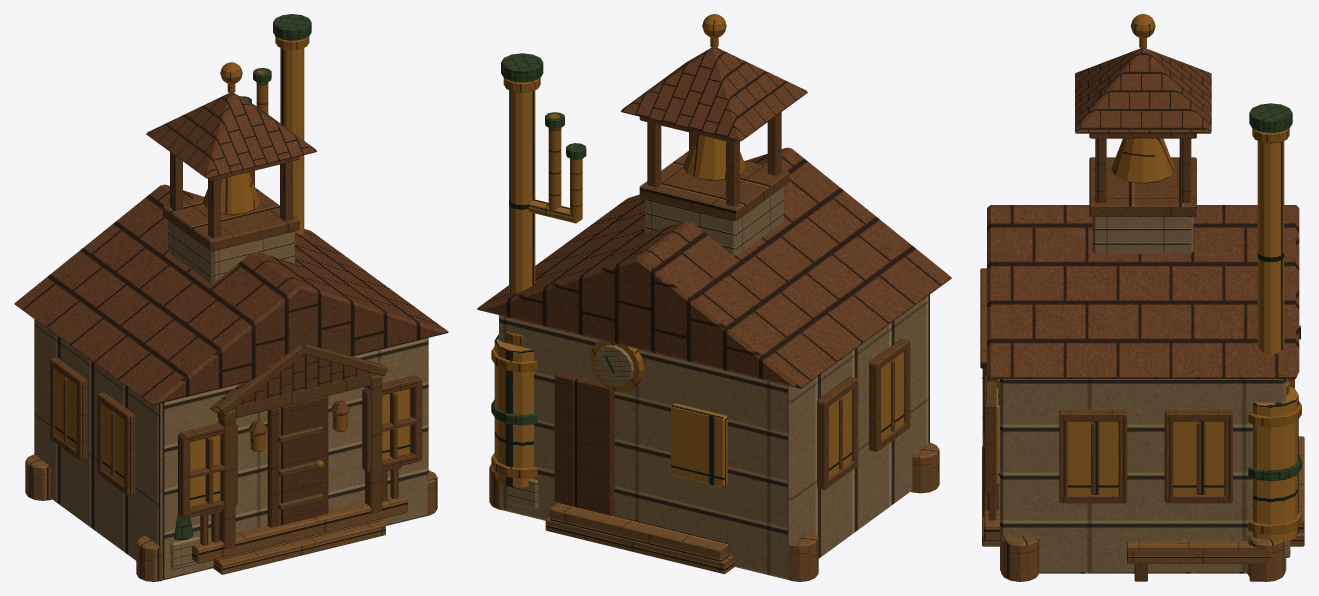
Rendered from schoolhouse.e2.glb.
3 views of the same model, side by side, from view 1: azimuth 30°, elevation 25°; view 2: azimuth 150°, elevation 25°; view 3: azimuth 270°, elevation 25° (orthographic). The views are drawn at different scales.
Visible parts, largest first — view 1: SchoolhouseE2; view 2: SchoolhouseE2; view 3: SchoolhouseE2.
Part boxes in pixels (box(x1,y1,x2,y2)): SchoolhouseE2: box(14, 14, 448, 581); SchoolhouseE2: box(477, 14, 951, 581); SchoolhouseE2: box(980, 14, 1304, 581).
Size of the model in its own units: 3.96 by 5.6 by 3.38.
1 material, 1 textured.
